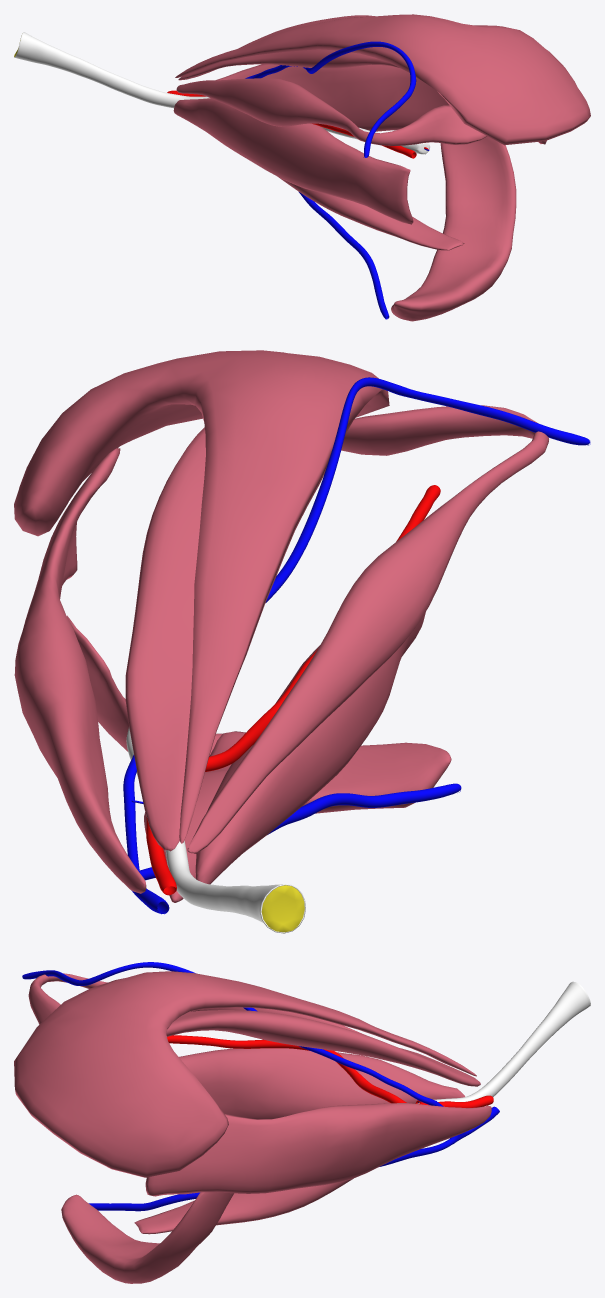
File: VH_M_Eye_L_Landmarks.fbx
The picture shows the model from 3 angles, top to bottom: view 1: azimuth 30°, elevation 25°; view 2: azimuth 150°, elevation 25°; view 3: azimuth 270°, elevation 25°; orthographic projection. The views are drawn at different scales.
Visible parts, largest first — view 1: VH_M_eye_L_landmark_muscles, VH_M_eye_L_landmark_dura_mater_optic_nerve, VH_M_eye_L_landmark_veins, VH_M_eye_L_landmark_arteries; view 2: VH_M_eye_L_landmark_muscles, VH_M_eye_L_landmark_veins, VH_M_eye_L_landmark_dura_mater_optic_nerve, VH_M_eye_L_landmark_arteries; view 3: VH_M_eye_L_landmark_muscles, VH_M_eye_L_landmark_veins, VH_M_eye_L_landmark_dura_mater_optic_nerve, VH_M_eye_L_landmark_arteries.
Boxes of the visible parts, x1,y1,x2,y2 form: VH_M_eye_L_landmark_muscles: [173, 14, 590, 321]; VH_M_eye_L_landmark_dura_mater_optic_nerve: [14, 32, 429, 154]; VH_M_eye_L_landmark_veins: [245, 41, 429, 319]; VH_M_eye_L_landmark_arteries: [167, 90, 428, 158]; VH_M_eye_L_landmark_muscles: [14, 350, 548, 902]; VH_M_eye_L_landmark_veins: [123, 377, 590, 914]; VH_M_eye_L_landmark_dura_mater_optic_nerve: [126, 727, 305, 933]; VH_M_eye_L_landmark_arteries: [146, 485, 440, 895]; VH_M_eye_L_landmark_muscles: [14, 971, 491, 1283]; VH_M_eye_L_landmark_veins: [22, 962, 499, 1211]; VH_M_eye_L_landmark_dura_mater_optic_nerve: [417, 981, 590, 1103]; VH_M_eye_L_landmark_arteries: [167, 1035, 493, 1107].
Bounding box in the file's own units: 4.98 × 3.58 × 6.58.
